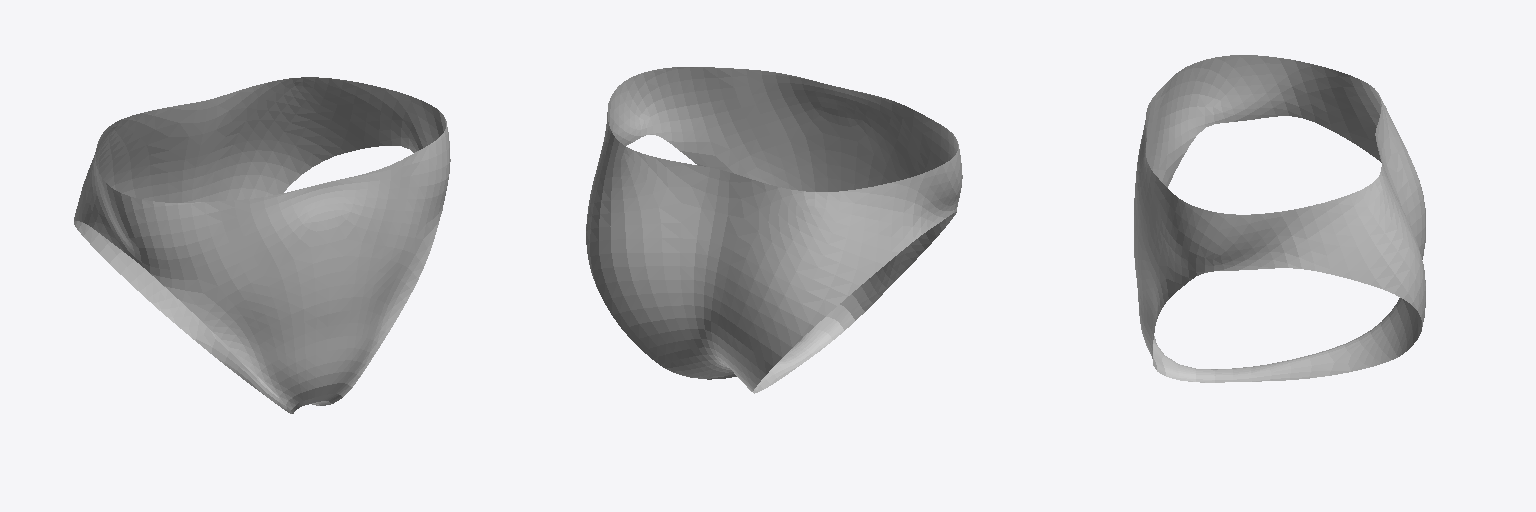
Rendered from bazin.obj.
The picture shows the model from 3 angles: view 1: azimuth 30°, elevation 25°; view 2: azimuth 150°, elevation 25°; view 3: azimuth 270°, elevation 25°; orthographic projection.
Parts seen in each view (by area): view 1: bazin; view 2: bazin; view 3: bazin.
Boxes of the visible parts, x1=… form: bazin: x1=74, y1=77, x2=450, y2=413; bazin: x1=586, y1=67, x2=962, y2=393; bazin: x1=1134, y1=55, x2=1425, y2=382.
Bounding box in the file's own units: 3.51 × 2.5 × 2.73.